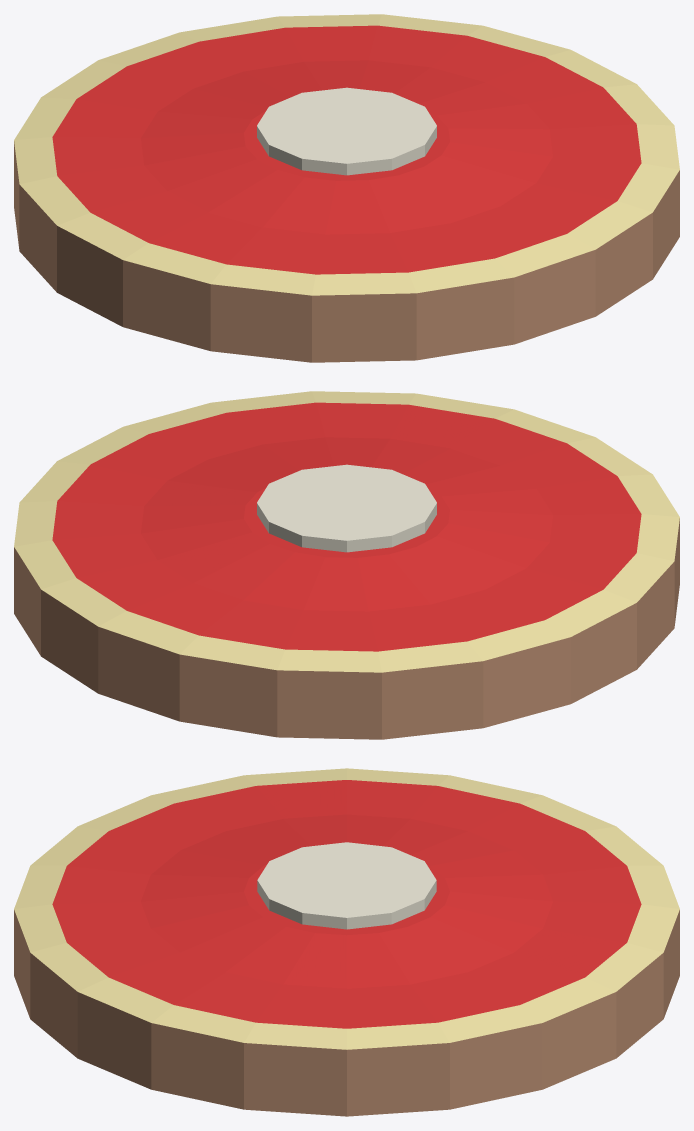
Rendered from cap_shoulder.glb.
3 renders of one model, top to bottom at view 1: azimuth 30°, elevation 25°; view 2: azimuth 150°, elevation 25°; view 3: azimuth 270°, elevation 25°, orthographic.
Parts seen in each view (by area): view 1: OUT; view 2: OUT; view 3: OUT.
Boxes of the visible parts, x1,y1,x2,y2 form: OUT: (14, 14, 679, 362); OUT: (14, 391, 679, 739); OUT: (14, 768, 679, 1116).
Bounding box in the file's own units: 0.104 × 0.0165 × 0.104.
